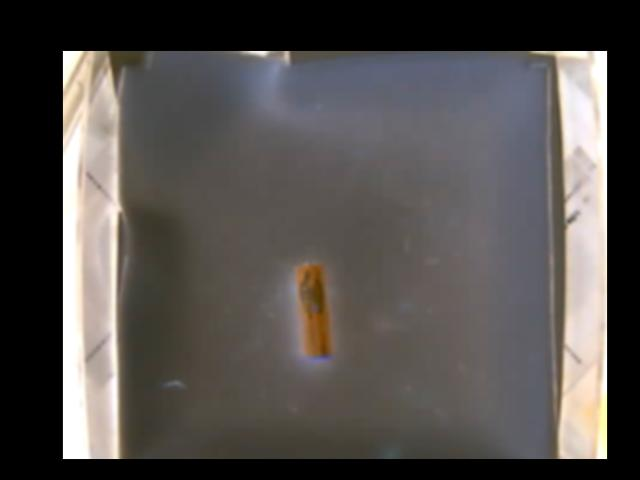Battery: (295, 261, 331, 363)
